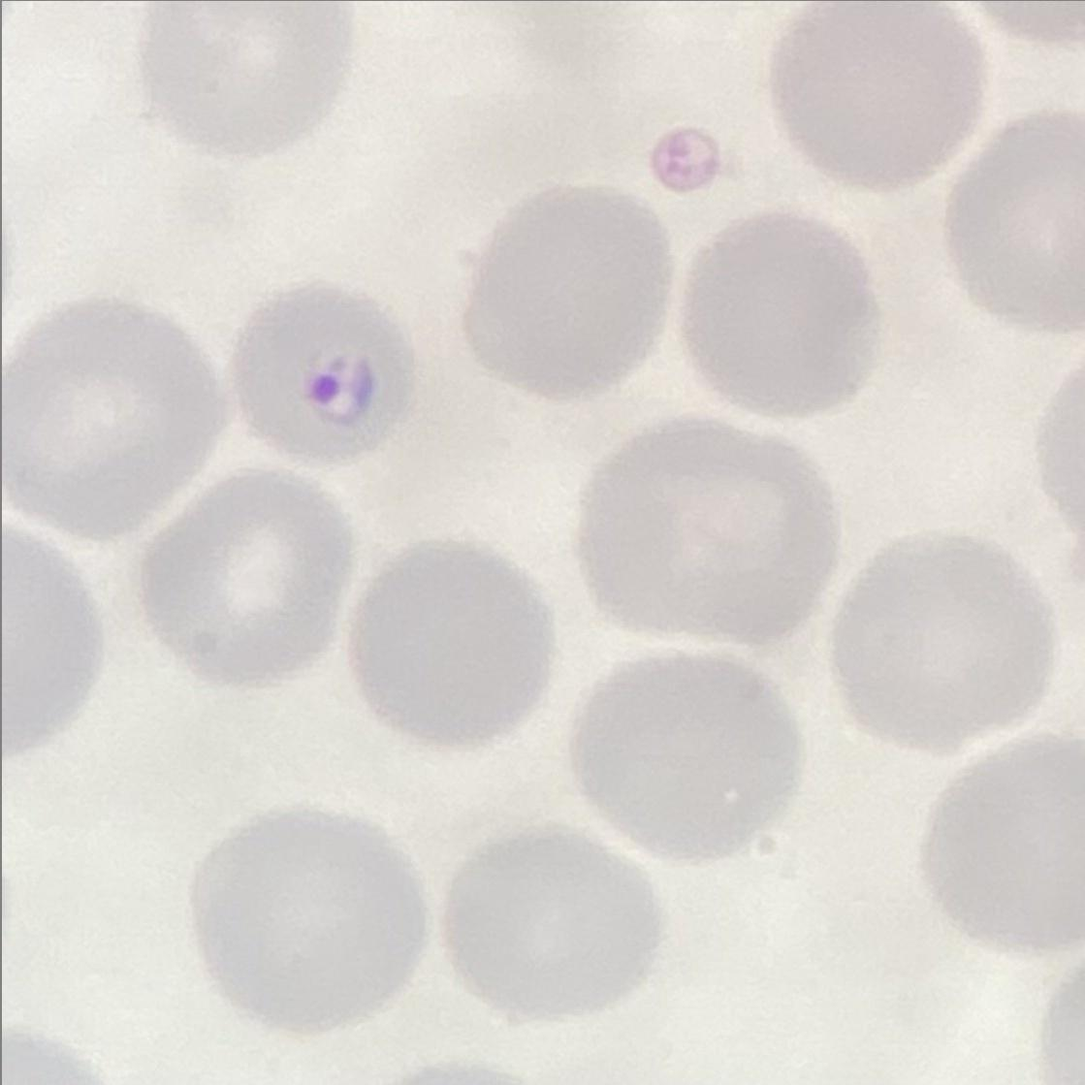Infected: (233, 279, 416, 473)
Uninfected: (575, 415, 842, 655), (0, 295, 226, 553), (200, 803, 429, 1036), (569, 647, 802, 872), (824, 538, 1062, 754), (459, 176, 668, 404), (346, 538, 556, 749), (145, 463, 345, 680), (769, 0, 993, 193), (685, 221, 881, 428), (452, 828, 655, 1023), (918, 732, 1085, 941), (140, 0, 346, 163), (941, 108, 1085, 335)
